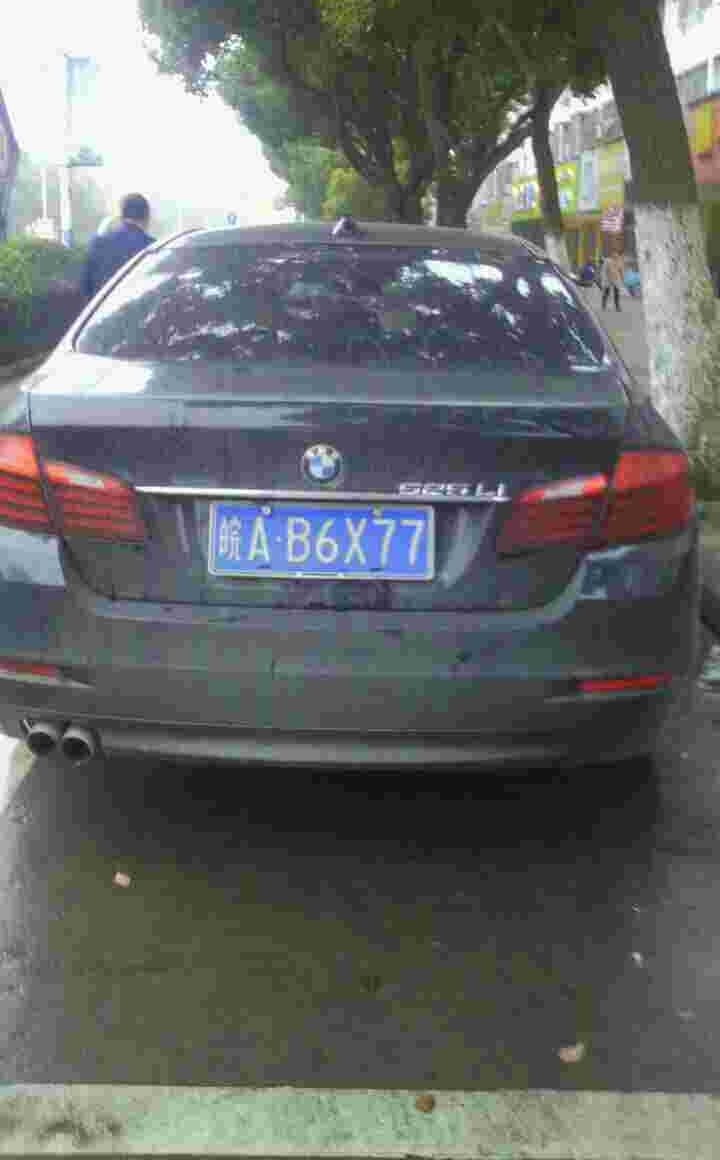license_plate: (213, 508, 426, 570)
